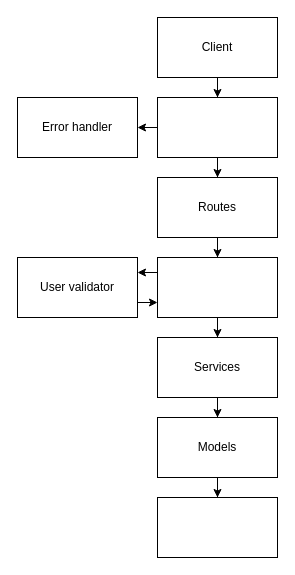
Some shapes in this 295 by 575 pixel diagram are drawn without their labels. Each missing label, with the box of its shape:
Controllers: (156, 256, 278, 318)
DB: (156, 496, 278, 558)
Express app: (156, 96, 278, 158)
